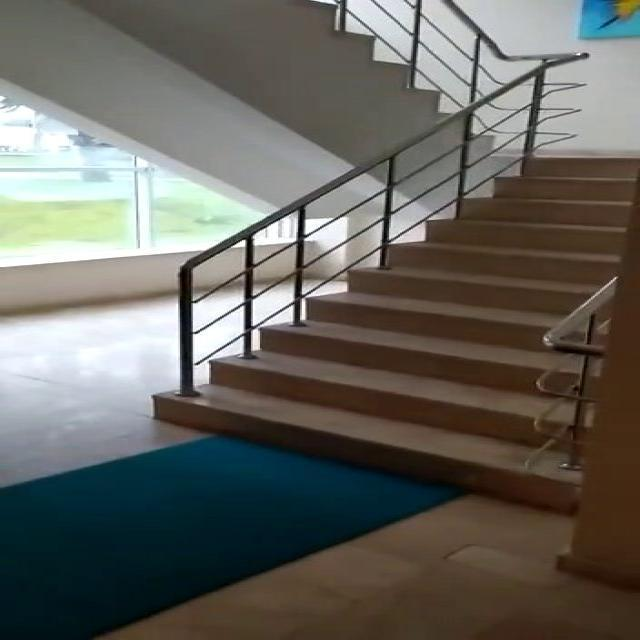stairs: (150, 153, 636, 513)
